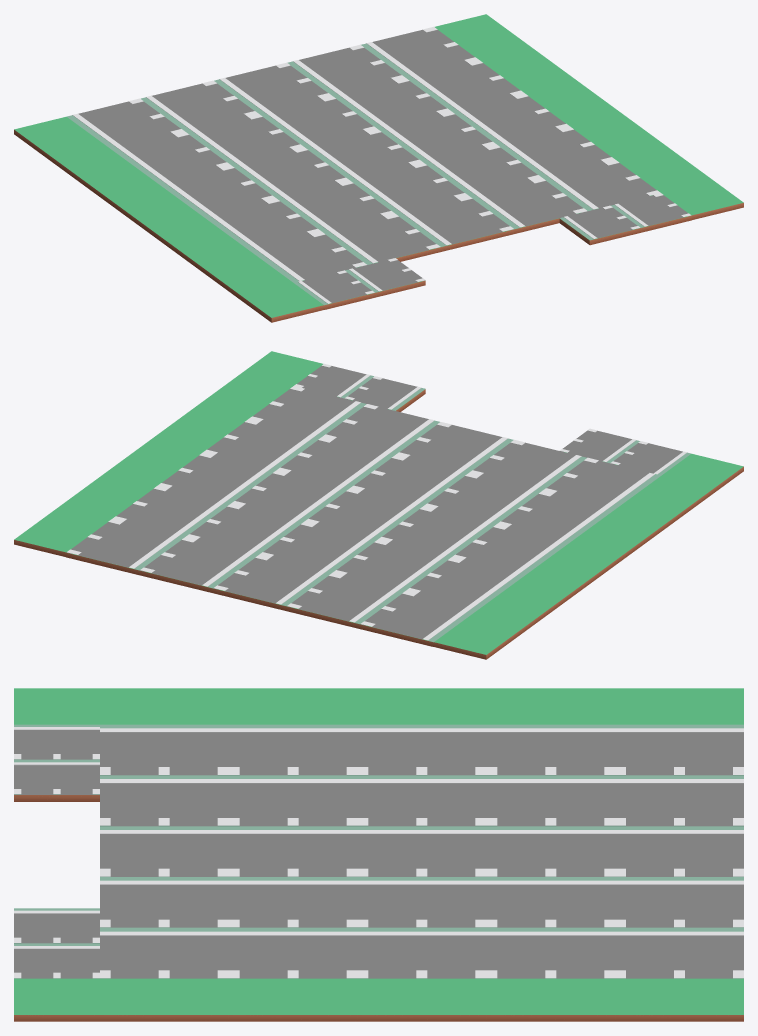
File: start-platform.glb
The picture shows the model from 3 angles, top to bottom: view 1: azimuth 30°, elevation 25°; view 2: azimuth 150°, elevation 25°; view 3: azimuth 270°, elevation 25°; orthographic projection. The views are drawn at different scales.
Parts seen in each view (by area): view 1: start original Racing pit-floor modules, start original Golf open green border, start original Golf solid base below pit floor; view 2: start original Racing pit-floor modules, start original Golf open green border, start original Golf solid base below pit floor; view 3: start original Racing pit-floor modules, start original Golf open green border, start original Golf solid base below pit floor.
Part boxes in pixels (<box>): start original Racing pit-floor modules: <box>67,26,691,304</box>; start original Golf open green border: <box>14,14,743,322</box>; start original Golf solid base below pit floor: <box>302,195,691,309</box>; start original Racing pit-floor modules: <box>66,363,690,641</box>; start original Golf open green border: <box>14,351,743,659</box>; start original Golf solid base below pit floor: <box>66,389,656,646</box>; start original Racing pit-floor modules: <box>14,724,743,978</box>; start original Golf open green border: <box>14,688,743,1021</box>; start original Golf solid base below pit floor: <box>14,795,99,801</box>.
Size of the model in its own units: 36 by 0.382 by 34.
Materials: 4 (1 with a texture image).
